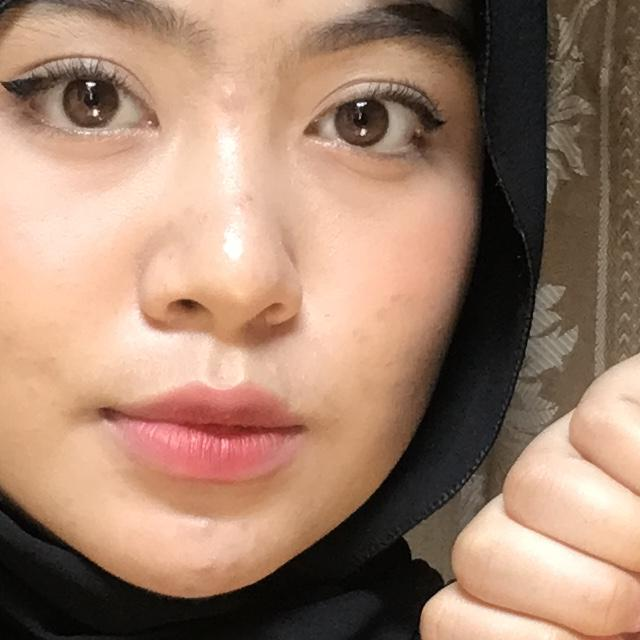sedih: (330, 156, 640, 640)
